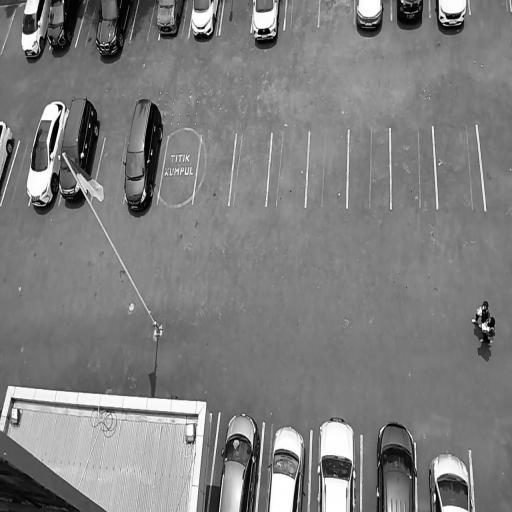Car: (121, 98, 167, 218), (24, 96, 70, 216), (56, 95, 103, 209), (216, 410, 261, 512), (370, 419, 419, 512), (316, 416, 360, 512), (266, 426, 306, 512), (426, 448, 474, 512), (92, 0, 136, 66), (21, 0, 50, 67), (44, 0, 81, 52), (0, 118, 16, 201), (251, 0, 280, 44), (189, 0, 219, 41), (435, 0, 469, 35), (355, 0, 386, 36), (156, 0, 184, 37), (396, 0, 426, 26)
Space Available: (433, 126, 485, 210), (390, 127, 438, 210), (348, 129, 391, 208), (306, 130, 347, 207), (158, 135, 202, 206), (478, 121, 512, 211), (230, 133, 271, 207), (266, 132, 308, 204), (193, 136, 236, 203), (91, 139, 128, 199), (2, 140, 34, 204), (1, 1, 26, 56), (130, 0, 158, 42), (75, 0, 100, 47), (223, 0, 254, 33), (285, 0, 320, 28), (318, 0, 354, 27), (471, 0, 511, 17)
